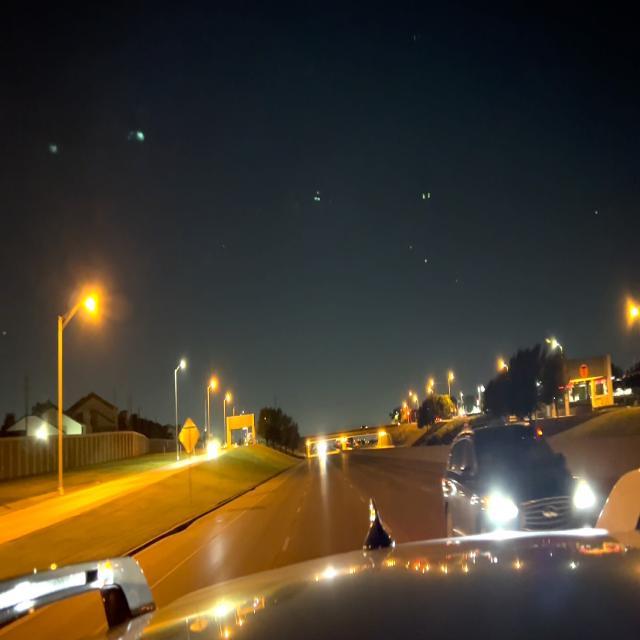back-of-sign: (179, 418, 201, 456)
